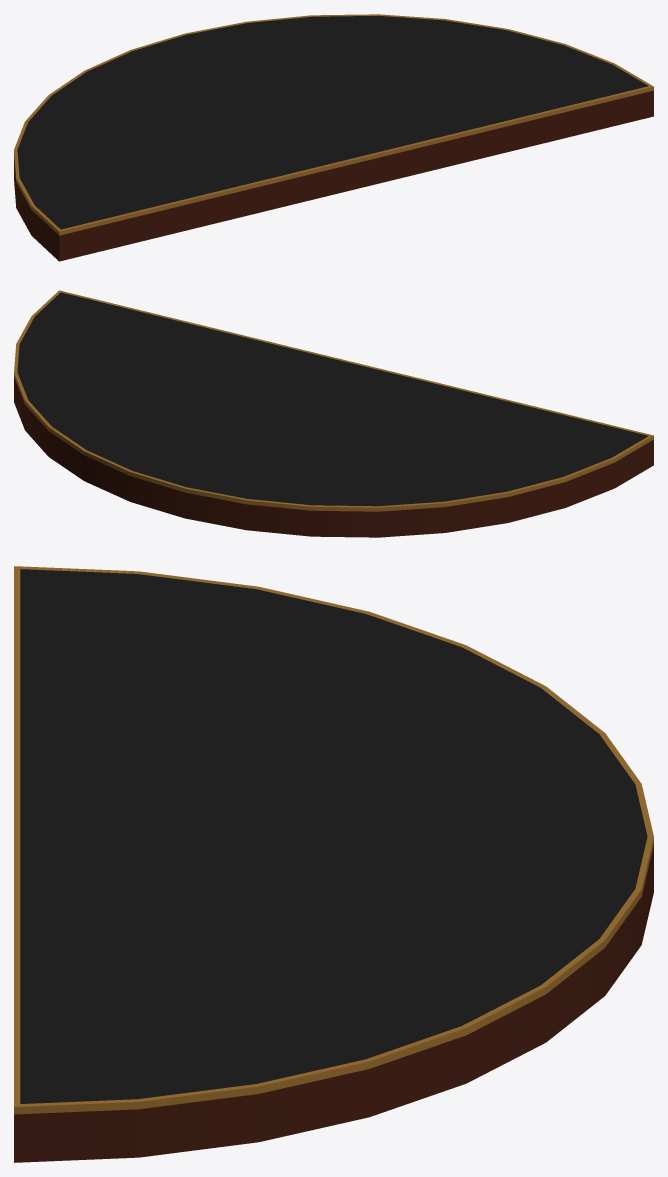
File: Stage.fbx
3 views of the same model, one above another, from view 1: azimuth 30°, elevation 25°; view 2: azimuth 150°, elevation 25°; view 3: azimuth 270°, elevation 25° (orthographic). The views are drawn at different scales.
Visible parts, largest first — view 1: Stage; view 2: Stage; view 3: Stage.
Part boxes in pixels (left/top/right/bottom): Stage: left=14, top=14, right=653, bottom=261; Stage: left=14, top=290, right=653, bottom=537; Stage: left=14, top=566, right=653, bottom=1162.
Size of what is drawn, in the model's own units: 15.6 by 0.75 by 7.8.
